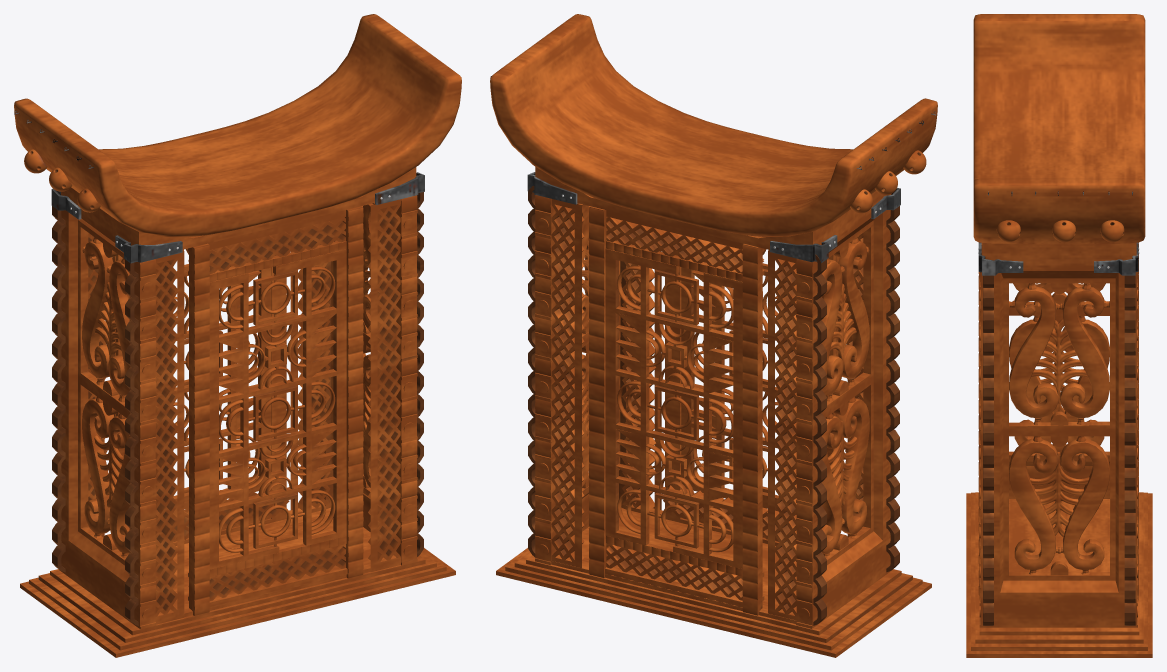
The model's file is Trône_roi_Ghézo.fbx.
3 views of the same model, side by side, from view 1: azimuth 30°, elevation 25°; view 2: azimuth 150°, elevation 25°; view 3: azimuth 270°, elevation 25° (orthographic). The views are drawn at different scales.
Parts seen in each view (by area): view 1: Boule.004, Motifs en bois.002, Grille.001, Corps.001, Pied.001, Bois centre.001, Côté 1.001, Plane.001, Côté 2.001, Motifs en bois.003, Motifs en bois.001, Bois centre 2.001 (+4 smaller); view 2: Boule.004, Motifs en bois.002, Grille.001, Corps.001, Pied.001, Bois centre.001, Côté 1.001, Plane.001, Côté 2.001, Motifs en bois.003, Motifs en bois.001, Bois centre 2.001 (+4 smaller); view 3: Boule.004, Corps.001, Plane.001, Pied.001, Côté 2.001, Motif profil.003, Côté 1.001, Fer-vis.001, Boule.001, Bois centre.001, Plane.000.
Boxes of the visible parts, left/top/right/bottom form: Boule.004: left=14, top=14, right=461, bottom=237; Motifs en bois.002: left=102, top=199, right=400, bottom=624; Grille.001: left=88, top=203, right=400, bottom=616; Corps.001: left=59, top=167, right=416, bottom=627; Pied.001: left=20, top=507, right=455, bottom=657; Bois centre.001: left=112, top=206, right=363, bottom=616; Côté 1.001: left=139, top=195, right=417, bottom=629; Plane.001: left=82, top=203, right=374, bottom=557; Côté 2.001: left=52, top=192, right=423, bottom=625; Motifs en bois.003: left=173, top=248, right=335, bottom=552; Motifs en bois.001: left=219, top=261, right=336, bottom=501; Bois centre 2.001: left=173, top=241, right=347, bottom=607; Boule.004: left=490, top=14, right=937, bottom=236; Motifs en bois.002: left=551, top=199, right=850, bottom=620; Grille.001: left=551, top=203, right=863, bottom=616; Corps.001: left=535, top=167, right=891, bottom=627; Pied.001: left=496, top=508, right=931, bottom=657; Bois centre.001: left=589, top=206, right=839, bottom=615; Côté 1.001: left=535, top=195, right=893, bottom=628; Plane.001: left=577, top=203, right=869, bottom=557; Côté 2.001: left=528, top=186, right=899, bottom=625; Motifs en bois.003: left=617, top=249, right=778, bottom=552; Motifs en bois.001: left=616, top=261, right=733, bottom=500; Bois centre 2.001: left=605, top=240, right=778, bottom=607; Boule.004: left=973, top=14, right=1145, bottom=244; Corps.001: left=982, top=242, right=1136, bottom=627; Plane.001: left=1009, top=283, right=1109, bottom=574; Pied.001: left=966, top=492, right=1152, bottom=657; Côté 2.001: left=983, top=275, right=1135, bottom=625; Motif profil.003: left=1030, top=318, right=1089, bottom=536; Côté 1.001: left=979, top=272, right=1137, bottom=627; Fer-vis.001: left=978, top=242, right=1138, bottom=275; Boule.001: left=988, top=191, right=1133, bottom=242; Bois centre.001: left=978, top=242, right=1138, bottom=601; Plane.000: left=1050, top=283, right=1068, bottom=575.
Size of the model in its own units: 196 by 248 by 87.64.
1 material, 1 textured.
